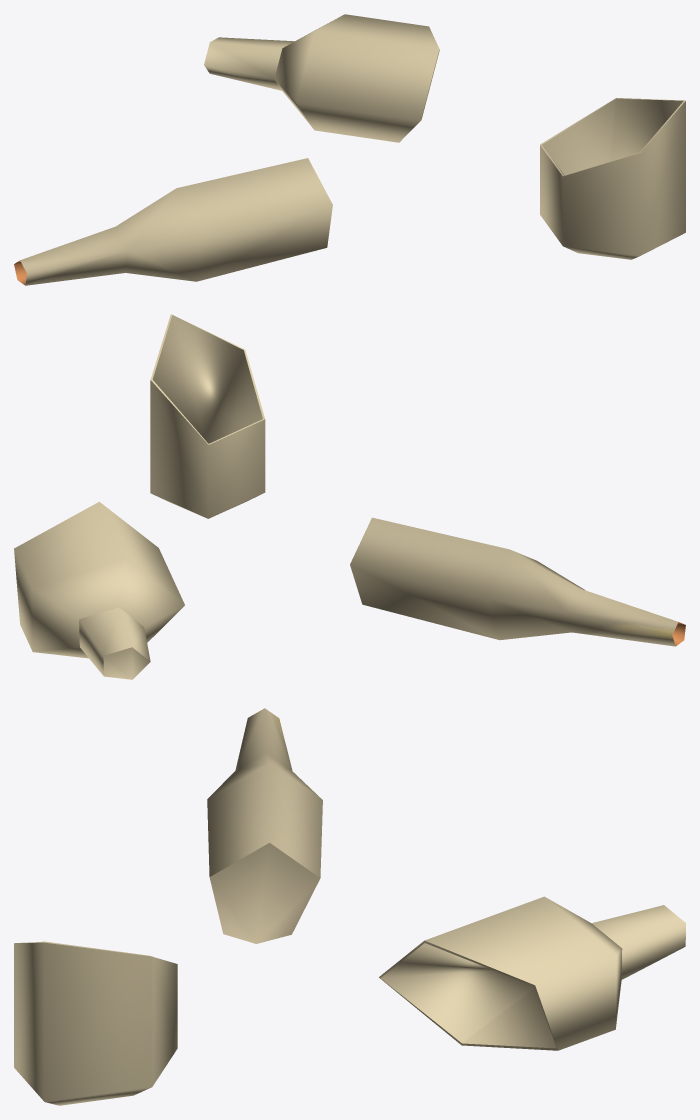
File: Drink_Bottel.fbx
3 renders of one model, top to bottom at view 1: azimuth 30°, elevation 25°; view 2: azimuth 150°, elevation 25°; view 3: azimuth 270°, elevation 25°, orthographic. The views are drawn at different scales.
Visible parts, largest first — view 1: Drink_Bottel; view 2: Drink_Bottel; view 3: Drink_Bottel.
Part boxes in pixels (box(x1,y1,x2,y2)): Drink_Bottel: box(14, 14, 685, 285); Drink_Bottel: box(14, 314, 685, 679); Drink_Bottel: box(14, 708, 685, 1105).
Size of the model in its own units: 0.6432 by 0.1534 by 0.5394.
